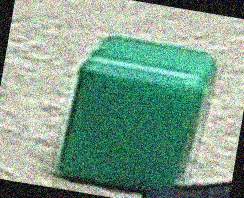green_cube: (53, 25, 212, 192)
